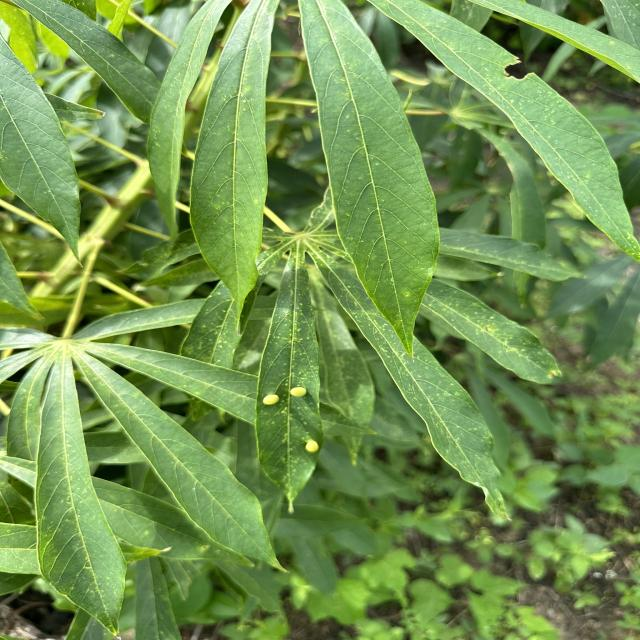Mosca: (258, 372, 310, 417), (300, 432, 324, 461)
